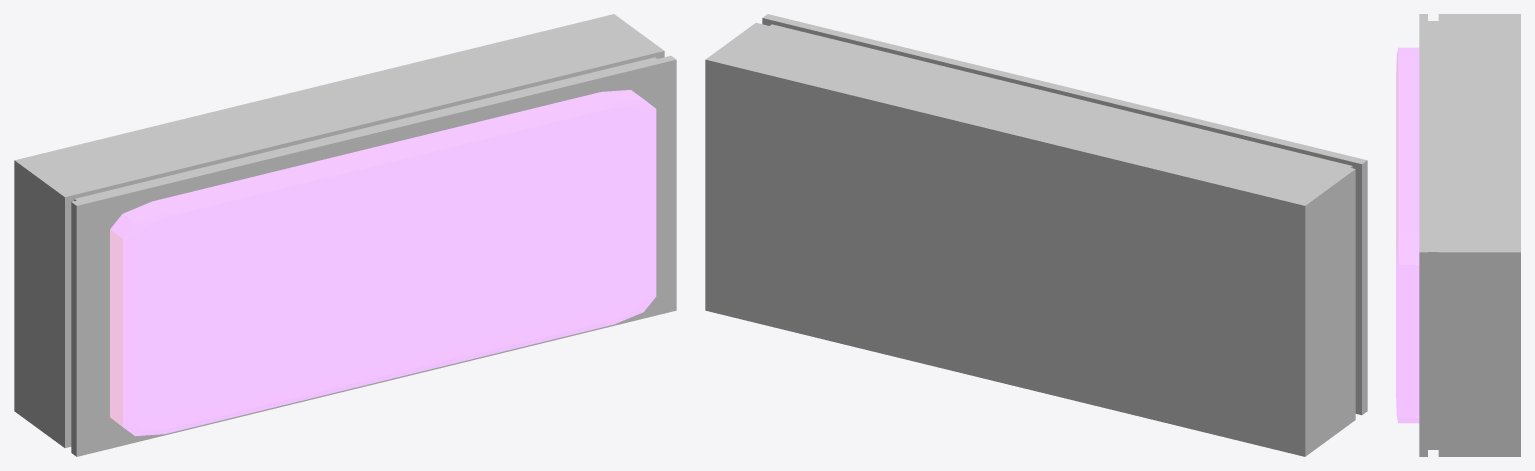
The model's file is Lamp_Big.fbx.
The picture shows the model from 3 angles, left to right: view 1: azimuth 30°, elevation 25°; view 2: azimuth 150°, elevation 25°; view 3: azimuth 270°, elevation 25°; orthographic projection. The views are drawn at different scales.
Parts seen in each view (by area): view 1: Lamp_Big; view 2: Lamp_Big; view 3: Lamp_Big.
Part boxes in pixels (x1,y1,x2,y2): Lamp_Big: [14, 14, 676, 456]; Lamp_Big: [705, 14, 1367, 456]; Lamp_Big: [1396, 14, 1520, 456].
Size of the model in its own units: 1 by 0.4 by 0.221.
